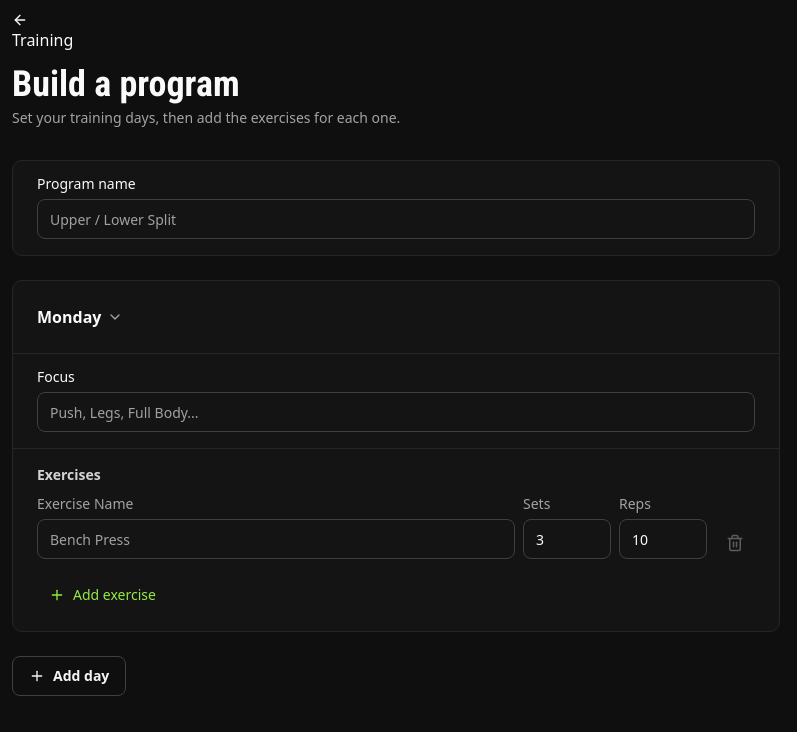
Test: ManualProgramCreation › removes day 1 without crashing
Click the button "Add day" at [69, 676], box x1=12 y1=656 x2=126 y2=696
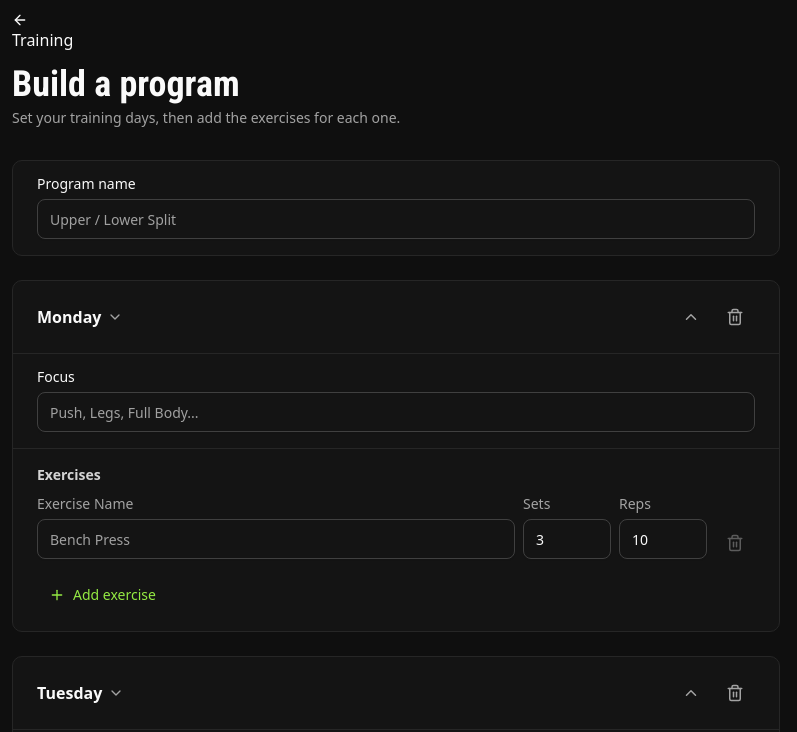
Now the number of buttons named "Remove Monday" is 2
Click the button named "Remove Tuesday" at [735, 693], box x1=715 y1=673 x2=755 y2=713
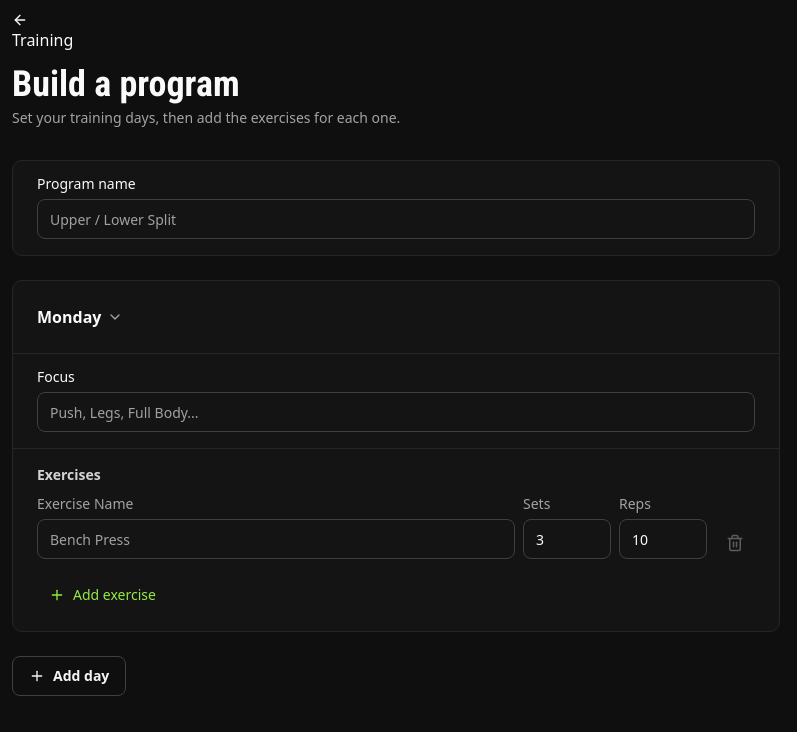
Now the number of elements "Monday Focus Exercises Exercise Name Sets Reps Add exercise" is 1, box x1=12 y1=280 x2=780 y2=632
